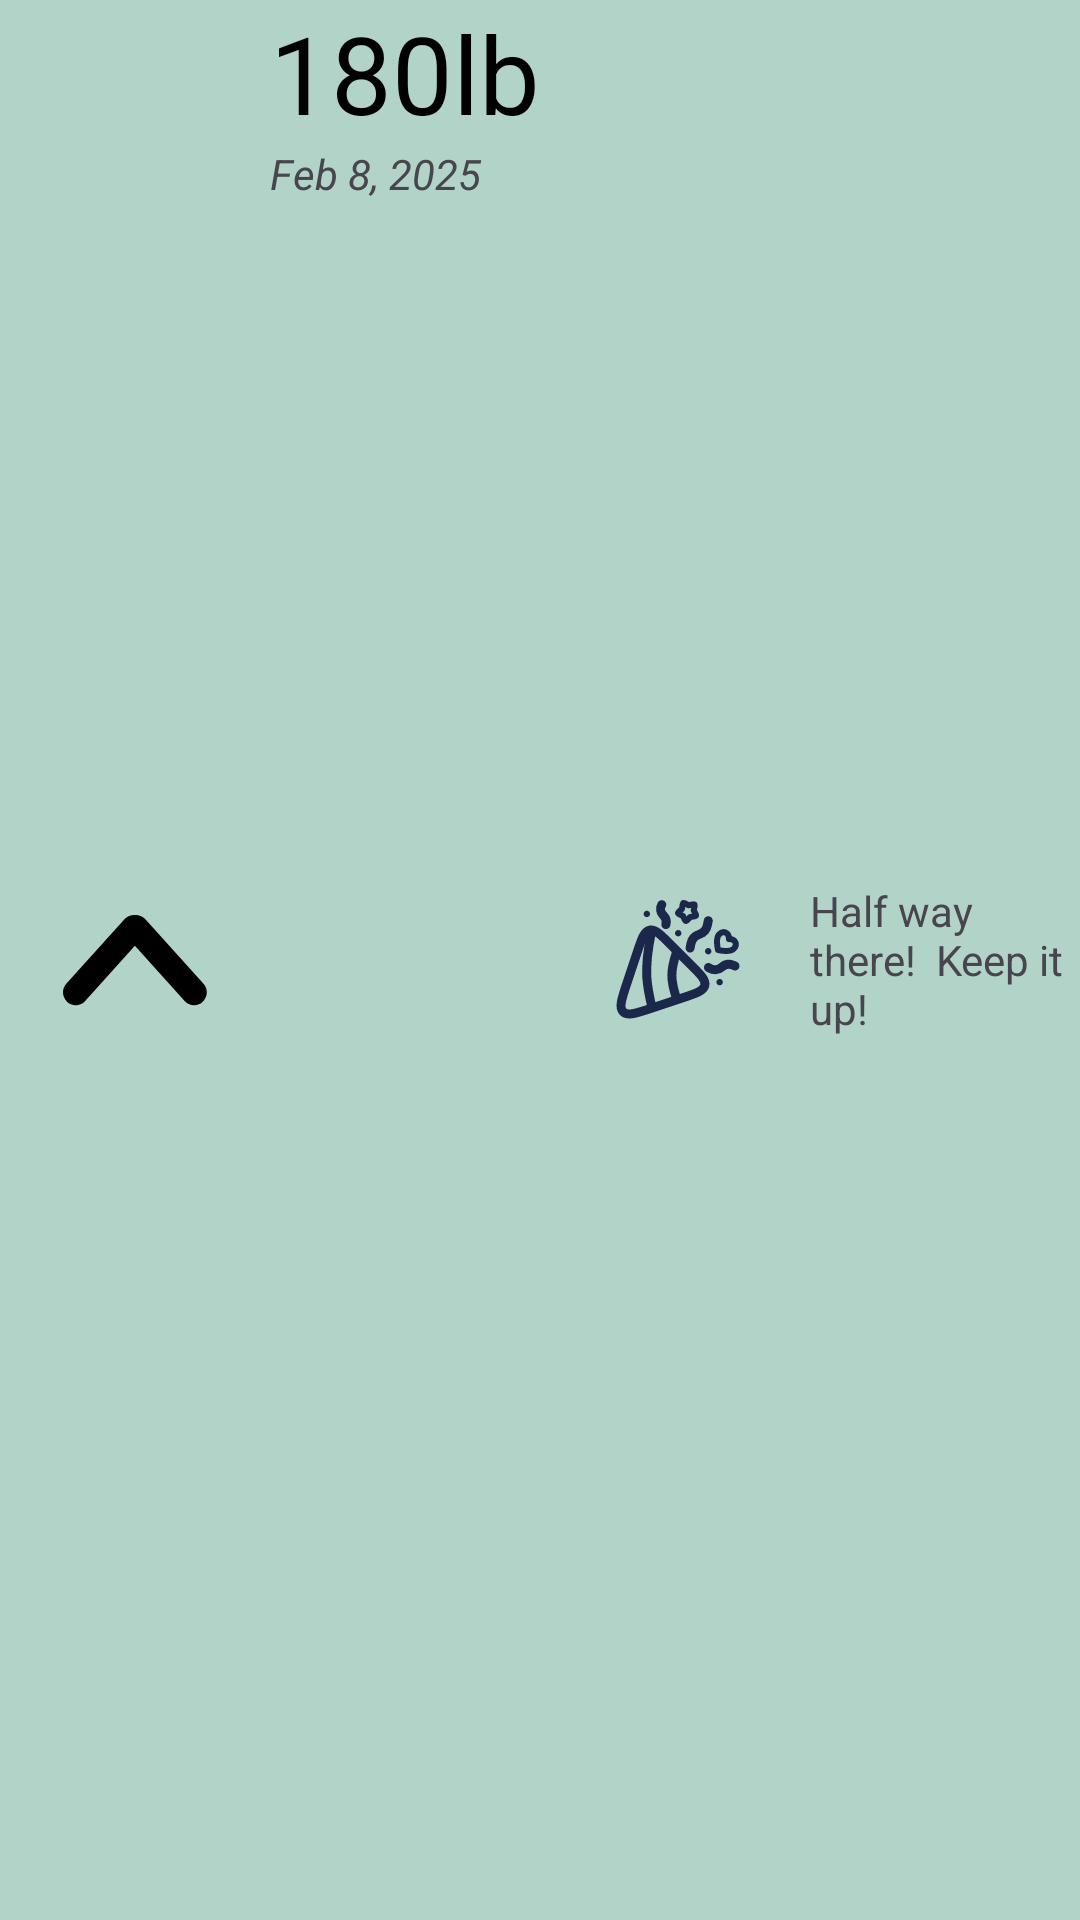

Icons on this 1080 x 1920 Android screen, each with its box as (x1, y1, x2, y2):
chevron up: (63, 915, 207, 1006)
confetti: (616, 900, 740, 1019)
